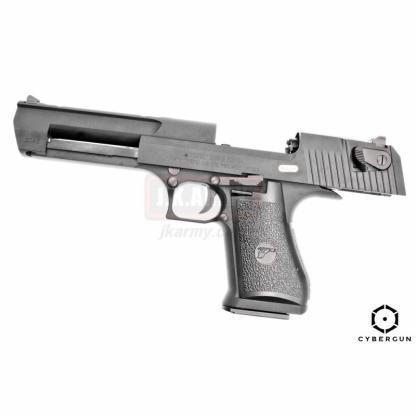Pistol: (12, 93, 408, 321)
